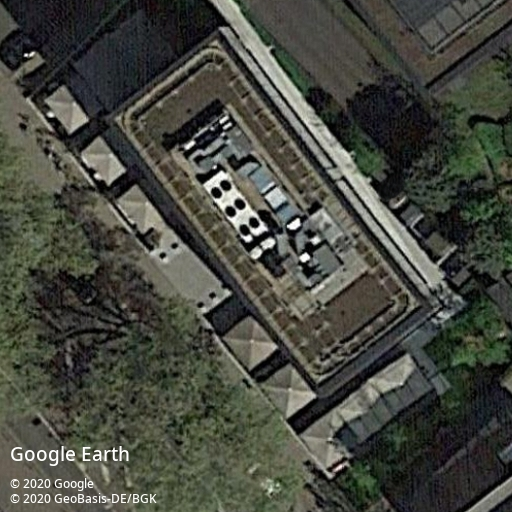Chiller: (202, 169, 266, 244)
